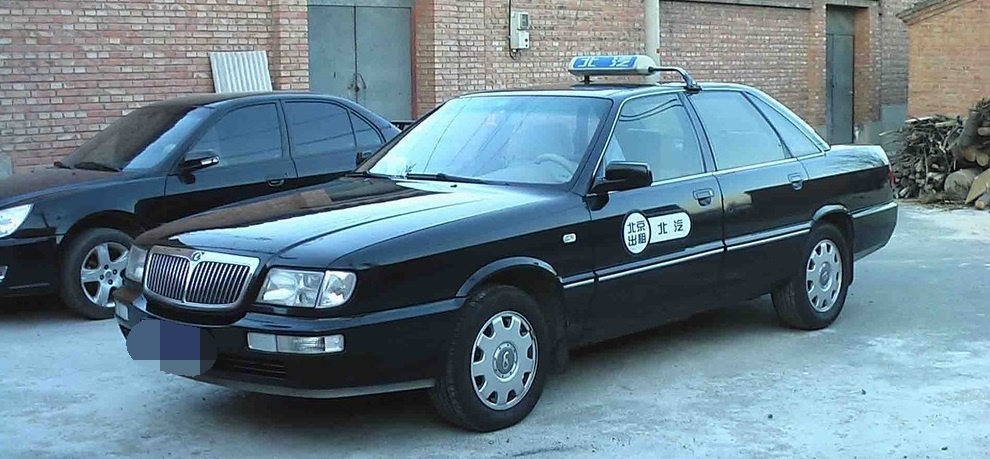taxi: (132, 55, 903, 416)
